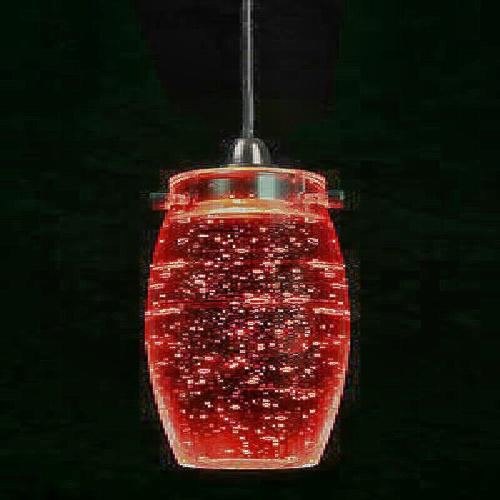lamp: (149, 158, 348, 475)
